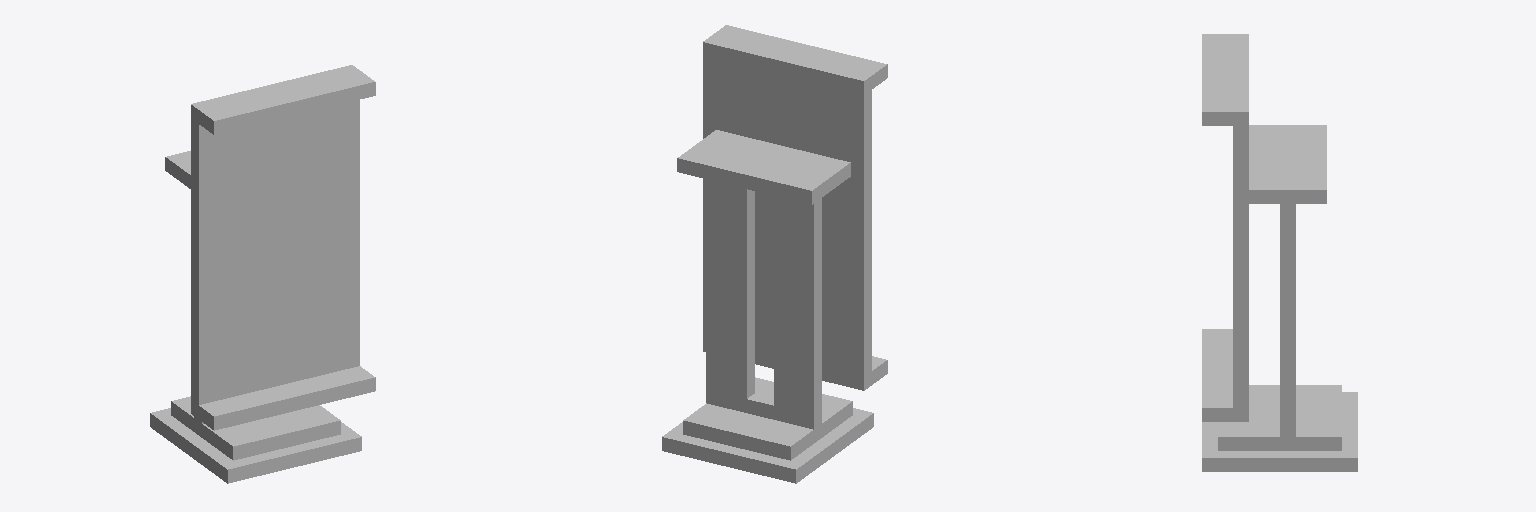
Rendered from item3.obj.
3 renders of one model, left to right at view 1: azimuth 30°, elevation 25°; view 2: azimuth 150°, elevation 25°; view 3: azimuth 270°, elevation 25°, orthographic.
Visible parts, largest first — view 1: object 1; view 2: object 1; view 3: object 1.
Boxes of the visible parts, x1=… form: object 1: x1=150, y1=65, x2=375, y2=483; object 1: x1=662, y1=25, x2=887, y2=483; object 1: x1=1202, y1=34, x2=1357, y2=471.
Bounding box in the file's own units: 1.2 × 2.6 × 1.